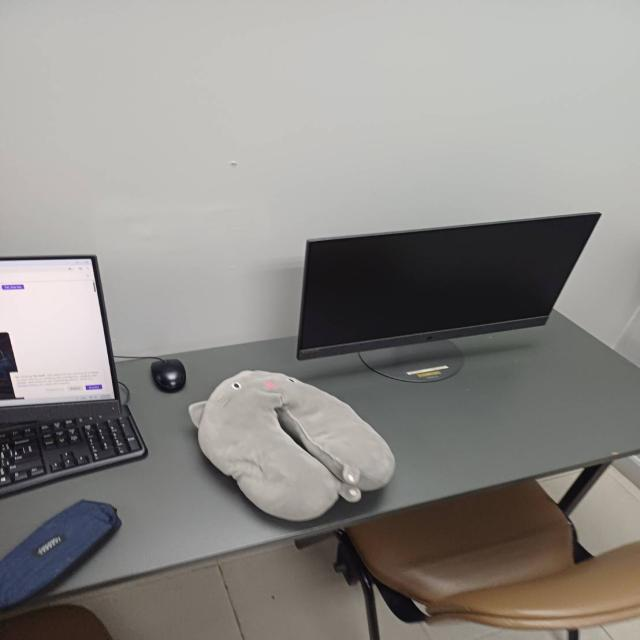pillow: (184, 365, 400, 530)
